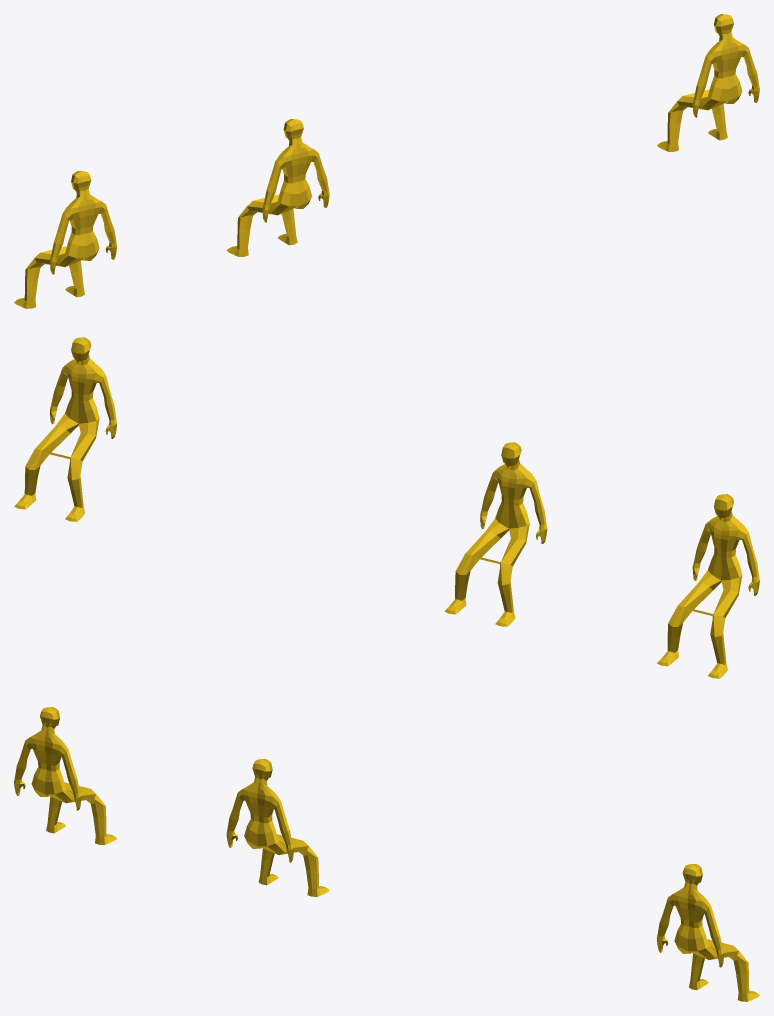
The model's file is row_3.glb.
The picture shows the model from 3 angles, top to bottom: view 1: azimuth 30°, elevation 25°; view 2: azimuth 150°, elevation 25°; view 3: azimuth 330°, elevation 25°; orthographic projection.
Visible parts, largest first — view 1: Student.008, Student.006, Student.007; view 2: Student.007, Student.008, Student.006; view 3: Student.006, Student.007, Student.008.
Part boxes in pixels (x1,y1,x2,y2): Student.008: (657,14,759,151); Student.006: (226,119,329,256); Student.007: (14,171,116,308); Student.007: (657,494,759,678); Student.008: (14,337,117,521); Student.006: (444,442,547,626); Student.006: (226,759,329,896); Student.007: (14,707,116,844); Student.008: (657,864,759,1001).
Size of the model in its own units: 6.58 by 1.34 by 0.6906.
